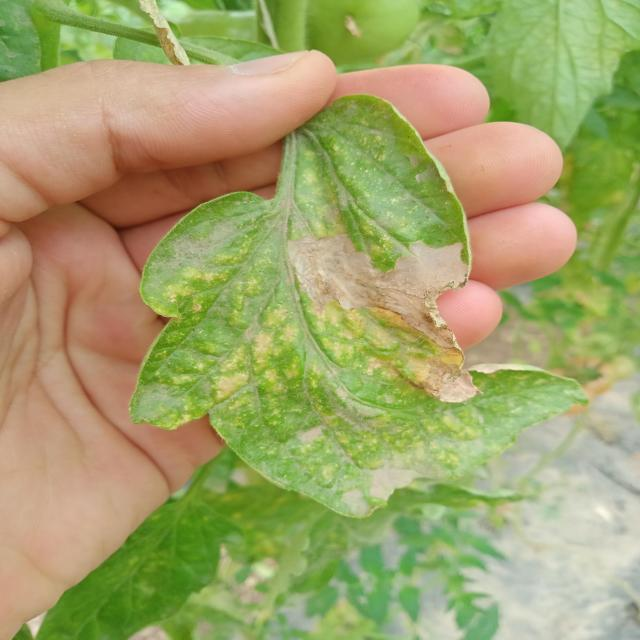Tuta absoluta: (276, 217, 474, 350)
